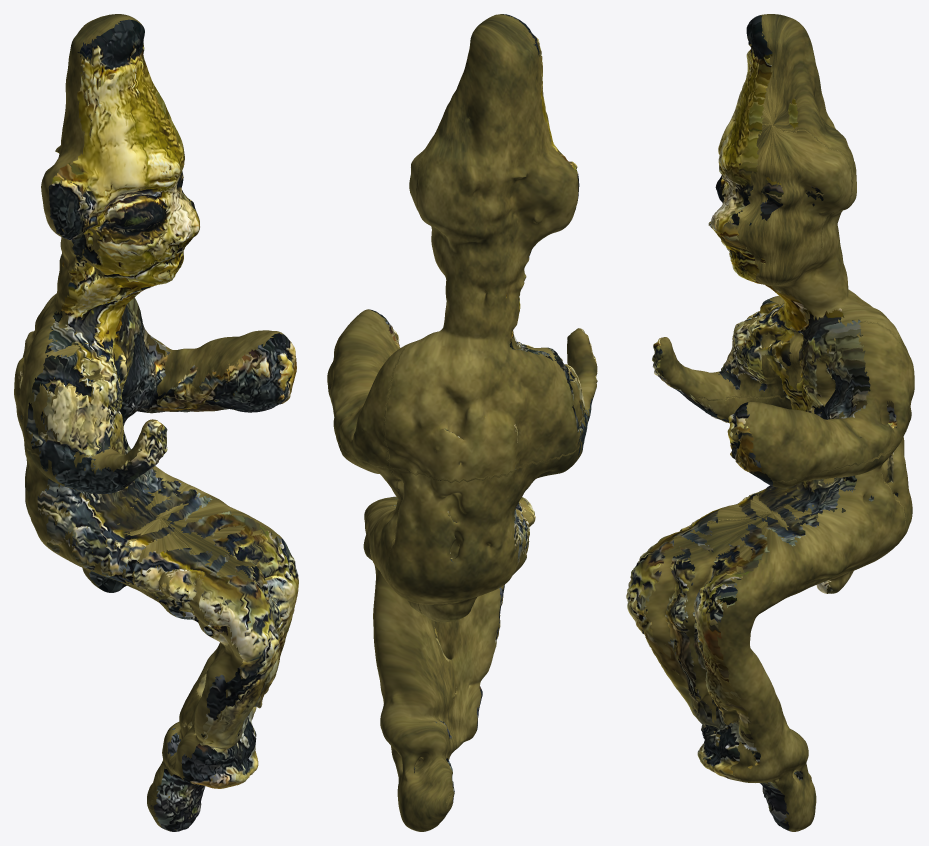
File: ane-18.glb
3 renders of one model, left to right at view 1: azimuth 30°, elevation 25°; view 2: azimuth 150°, elevation 25°; view 3: azimuth 270°, elevation 25°, orthographic. The views are drawn at different scales.
Parts seen in each view (by area): view 1: ane-18; view 2: ane-18; view 3: ane-18.
Boxes of the visible parts, x1,y1,x2,y2 form: ane-18: (14,14,298,831); ane-18: (327,14,597,831); ane-18: (626,14,914,831).
Size of the model in its own units: 0.3173 by 0.9975 by 0.3334.
Materials: 2 (2 with a texture image).
